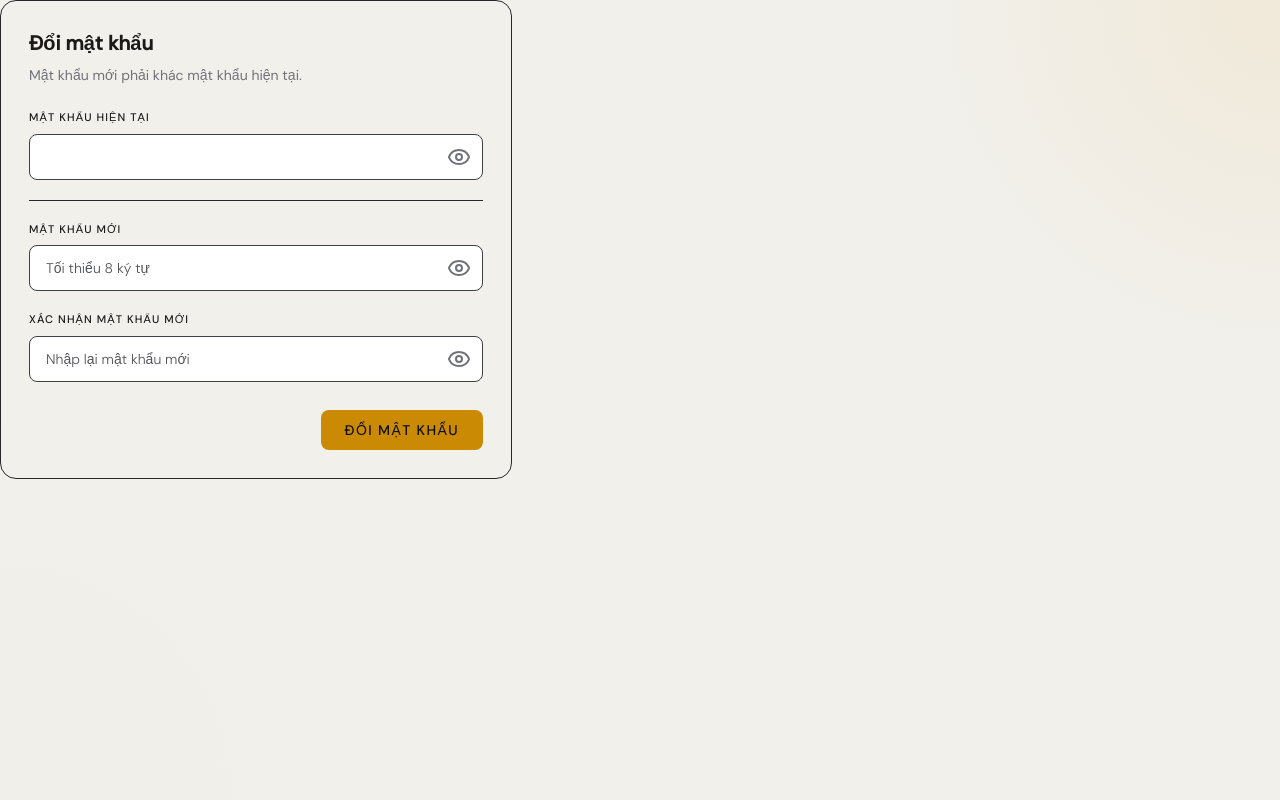
Scenario: ChangePasswordForm › should clear field error when user changes that field
This screenshot has width=1280, height=800.
Click the button "Đổi mật khẩu" at (402, 430), box [321,410,483,450]
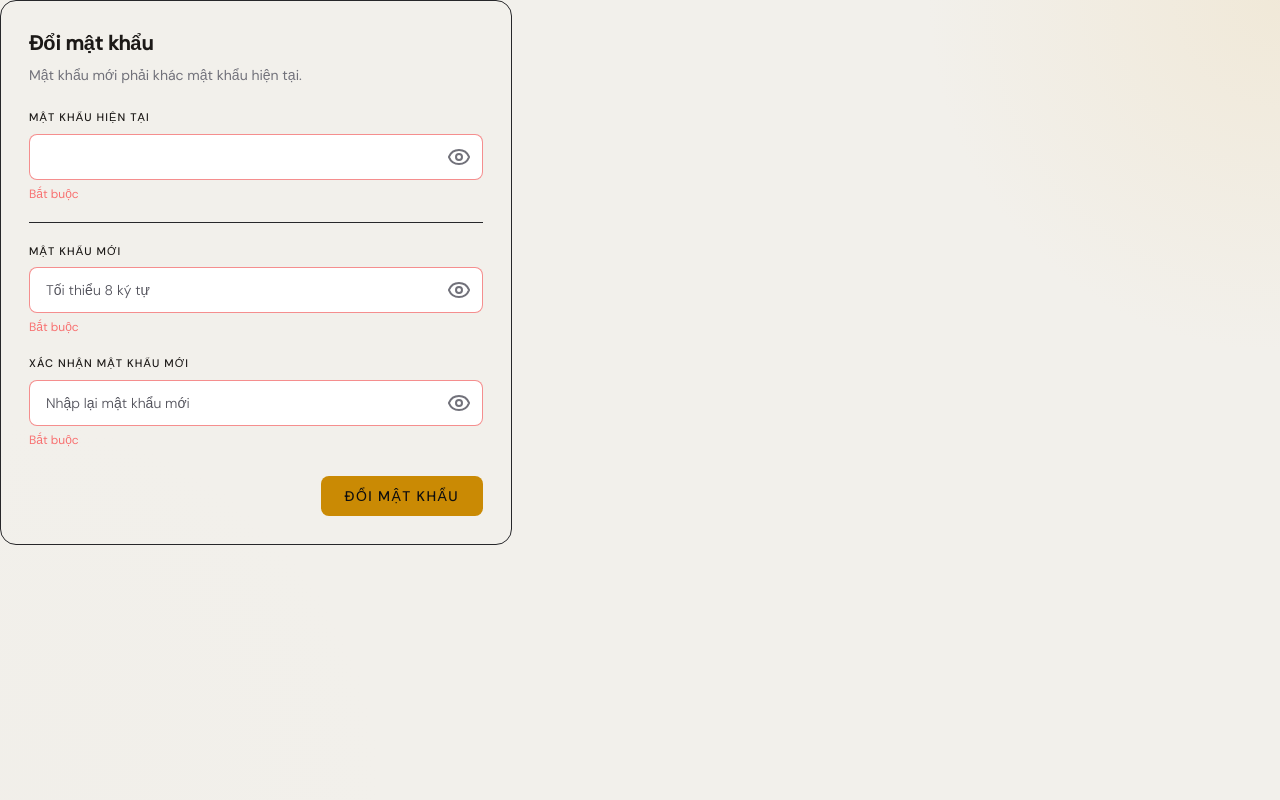
Expected: the text "Bắt buộc" is shown 3 times, [29,186,79,202]; [29,319,79,335]; [29,432,79,448]
Type "oldPassword1" into the 1st password field at (256, 156), box [29,134,483,180]
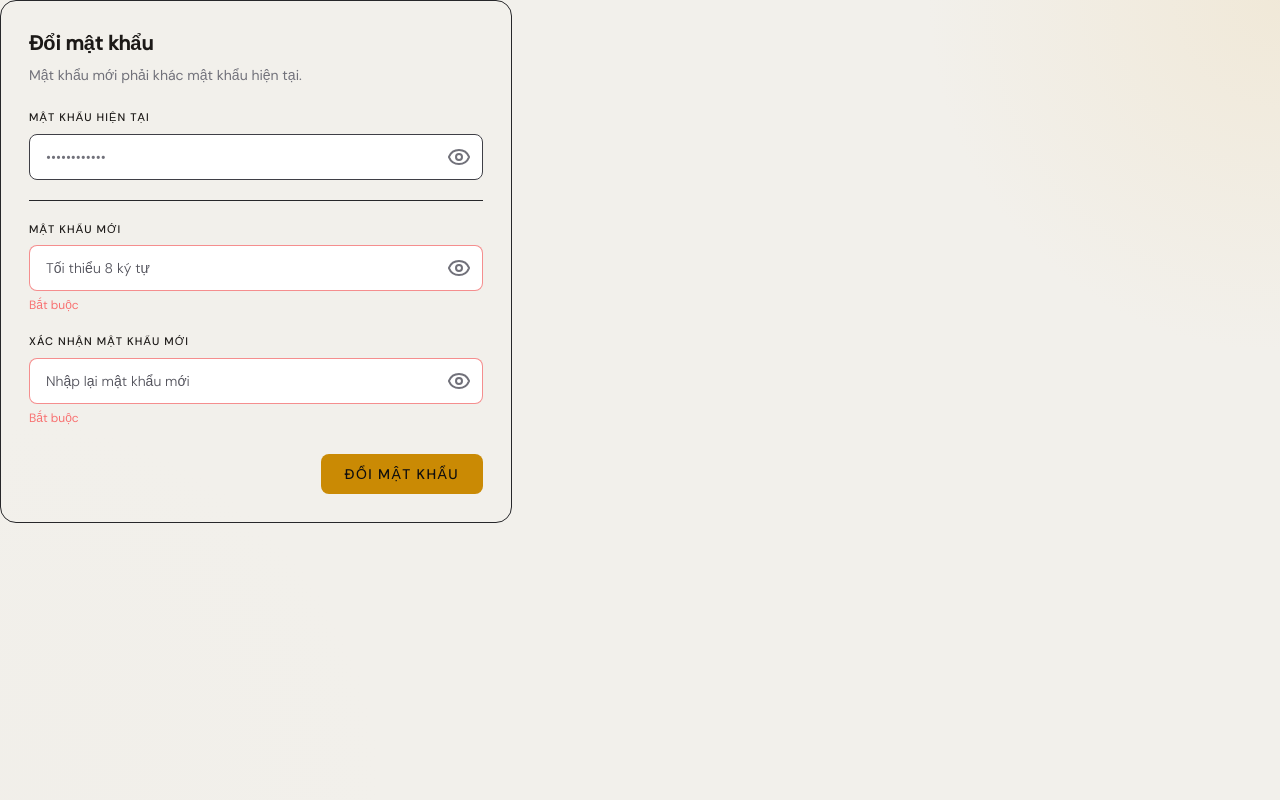
Expected: the text "Bắt buộc" is shown 2 times, [29,297,79,313]; [29,410,79,426]
